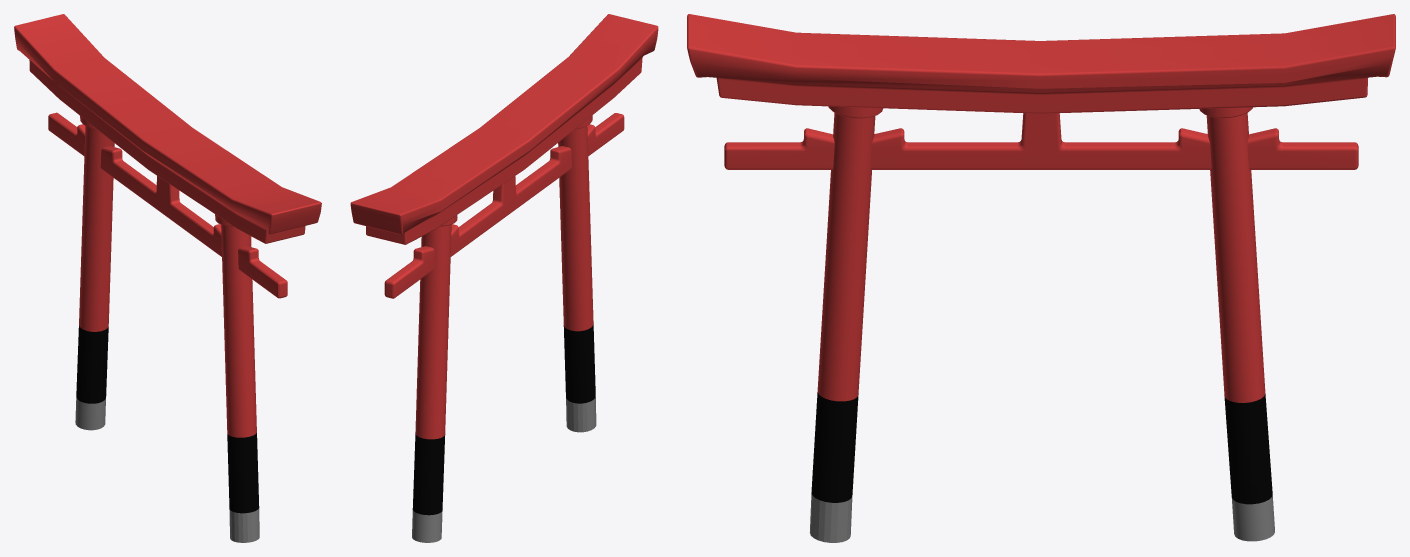
File: 鳥居完成.fbx
The picture shows the model from 3 angles, left to right: view 1: azimuth 30°, elevation 25°; view 2: azimuth 150°, elevation 25°; view 3: azimuth 270°, elevation 25°; orthographic projection. The views are drawn at different scales.
Visible parts, largest first — view 1: pCube134; view 2: pCube134; view 3: pCube134.
Part boxes in pixels (box(x1,y1,x2,y2)): pCube134: box(14, 14, 321, 542); pCube134: box(350, 14, 658, 542); pCube134: box(687, 14, 1395, 542).
Size of the model in its own units: 0.8418 by 5.81 by 7.38.
